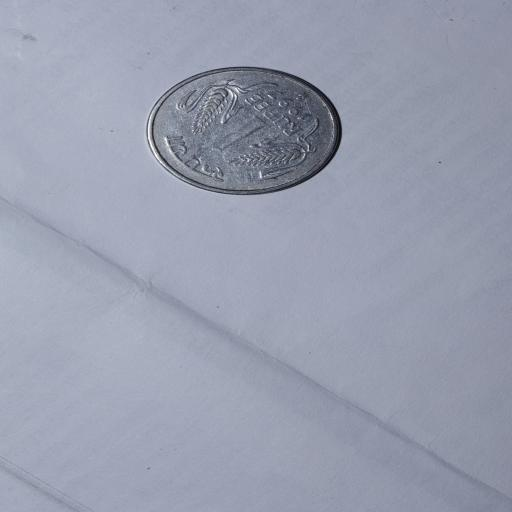rupee1: (138, 66, 344, 198)
